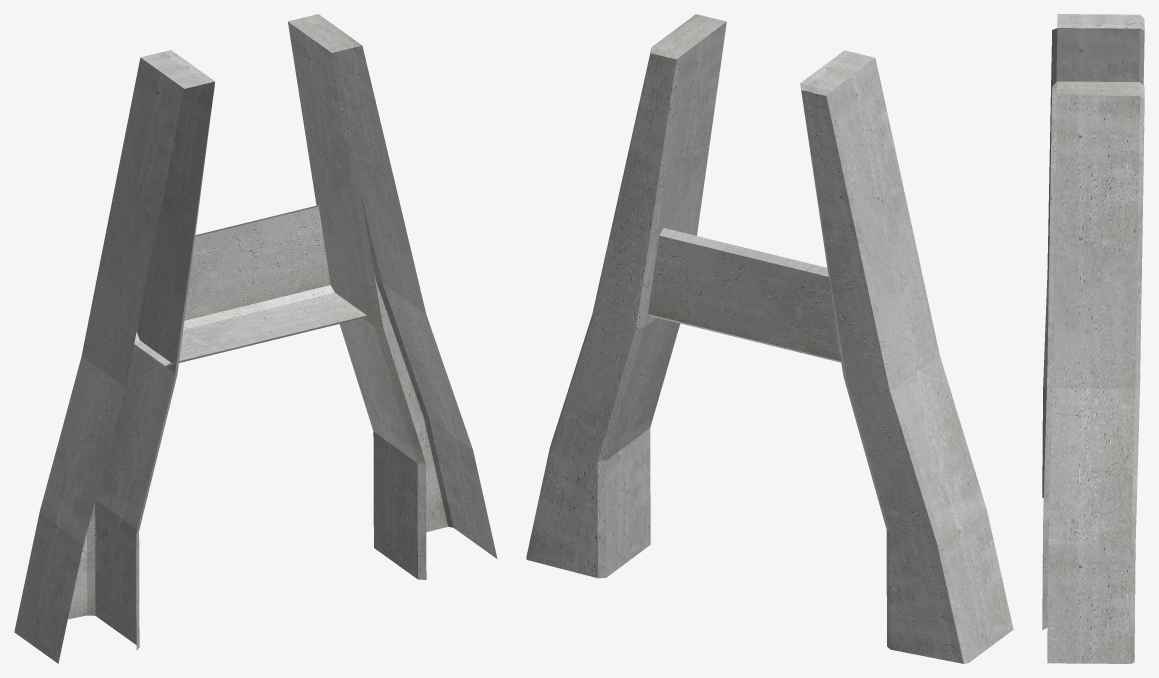
File: bridge_pillar1.fbx
3 views of the same model, side by side, from view 1: azimuth 30°, elevation 25°; view 2: azimuth 150°, elevation 25°; view 3: azimuth 270°, elevation 25° (orthographic). The views are drawn at different scales.
Visible parts, largest first — view 1: bridge_pillar1; view 2: bridge_pillar1; view 3: bridge_pillar1.
Boxes of the visible parts, x1,y1,x2,y2 form: bridge_pillar1: (14, 14, 497, 663); bridge_pillar1: (526, 14, 1013, 663); bridge_pillar1: (1042, 14, 1144, 663).
Bounding box in the file's own units: 3331 × 3936 × 717.
